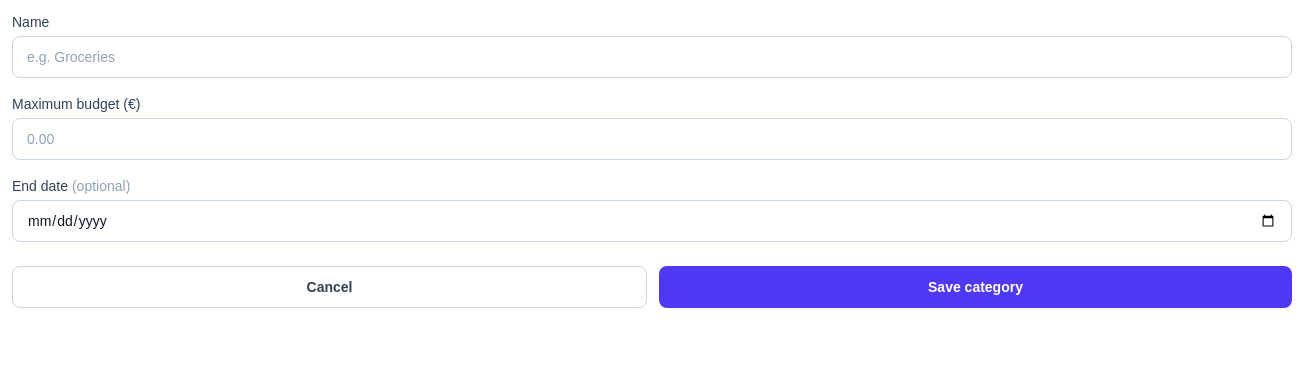
Test: CategoryForm › shows a validation error and does not submit when budget is zero or negative
The width and height of the screenshot is (1304, 387).
Type "Transport" into the field labelled "Name".
click(652, 57); type("Transport")  # box [12, 36, 1292, 78]
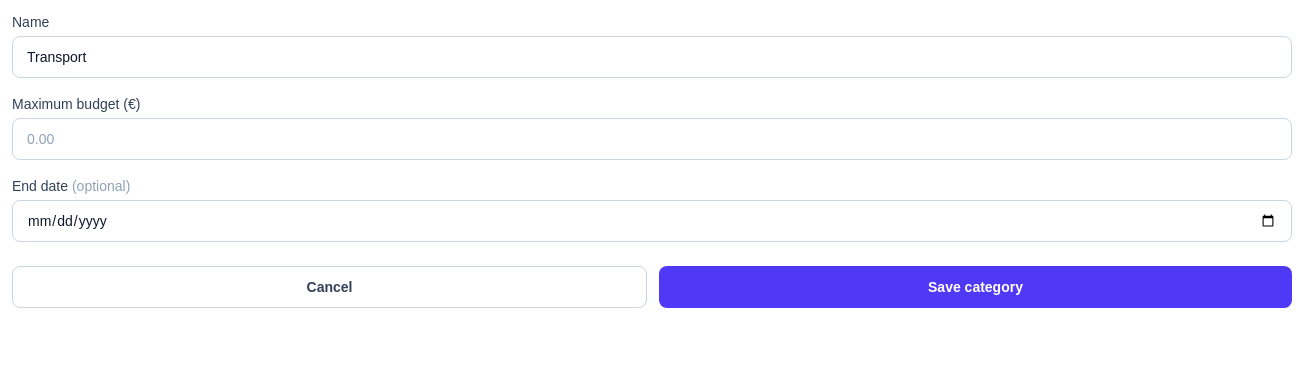
Type "0" into the number field labelled "Maximum budget (€)".
click(652, 139); type("0")  # box [12, 118, 1292, 160]
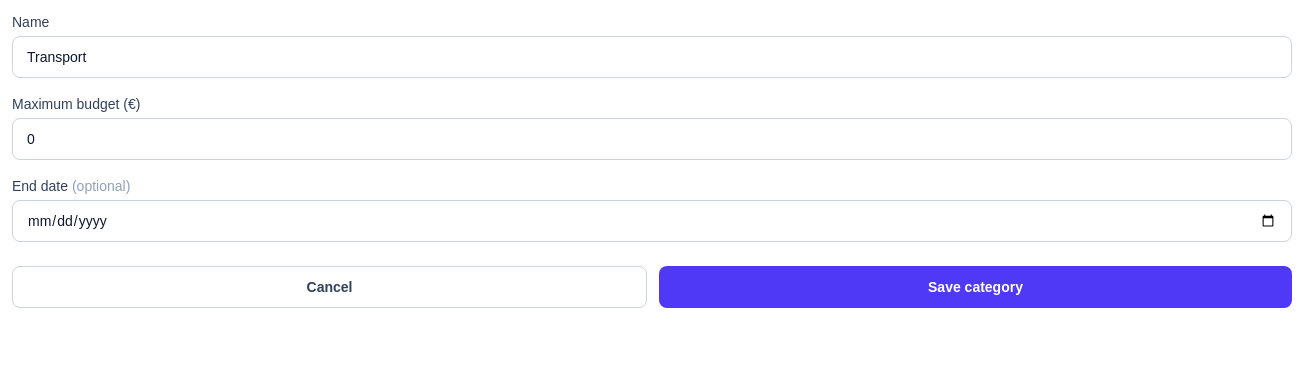
Submit the form
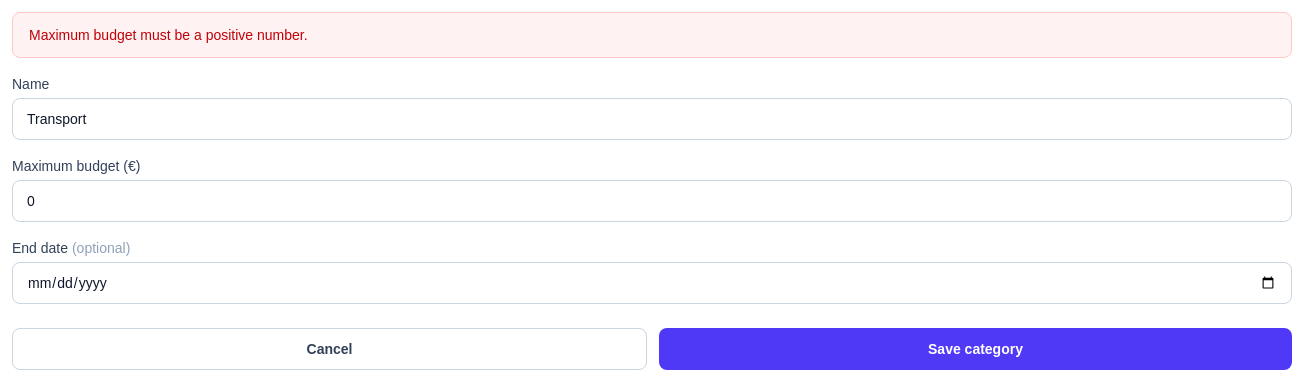
Result: the text "Maximum budget must be a positive number." is shown at [12, 12, 1292, 58]
